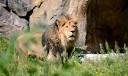lion: (15, 16, 80, 58)
